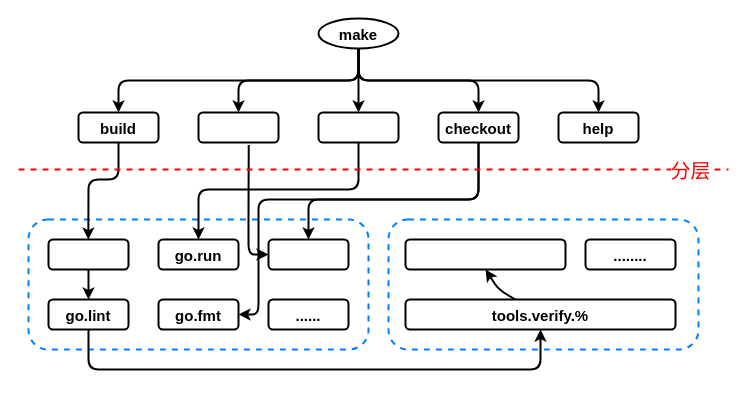
This 747x395 diagram has some shape labels left out. The centre of each missing label's shape, as x and y in pixels:
"clean" goes at point (238, 127).
"go.build" goes at point (88, 254).
"go.clean" goes at point (308, 254).
"install.golangci-lint" goes at point (485, 254).
"run" goes at point (358, 127).
